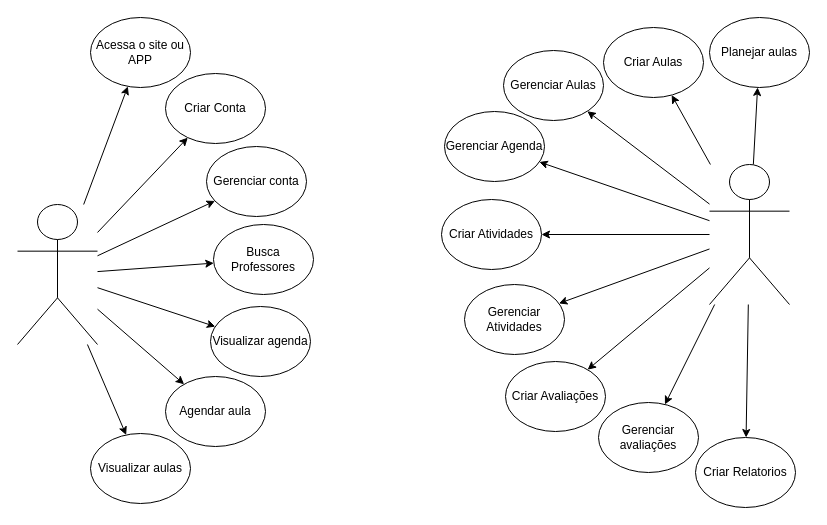
Image size: 827x525. Some labels were removed from this diagram. The centre of each missing label's shape, as x and y in pixels:
"Professor" belongs at point 749,234.
"Responsavel" belongs at point 57,274.
